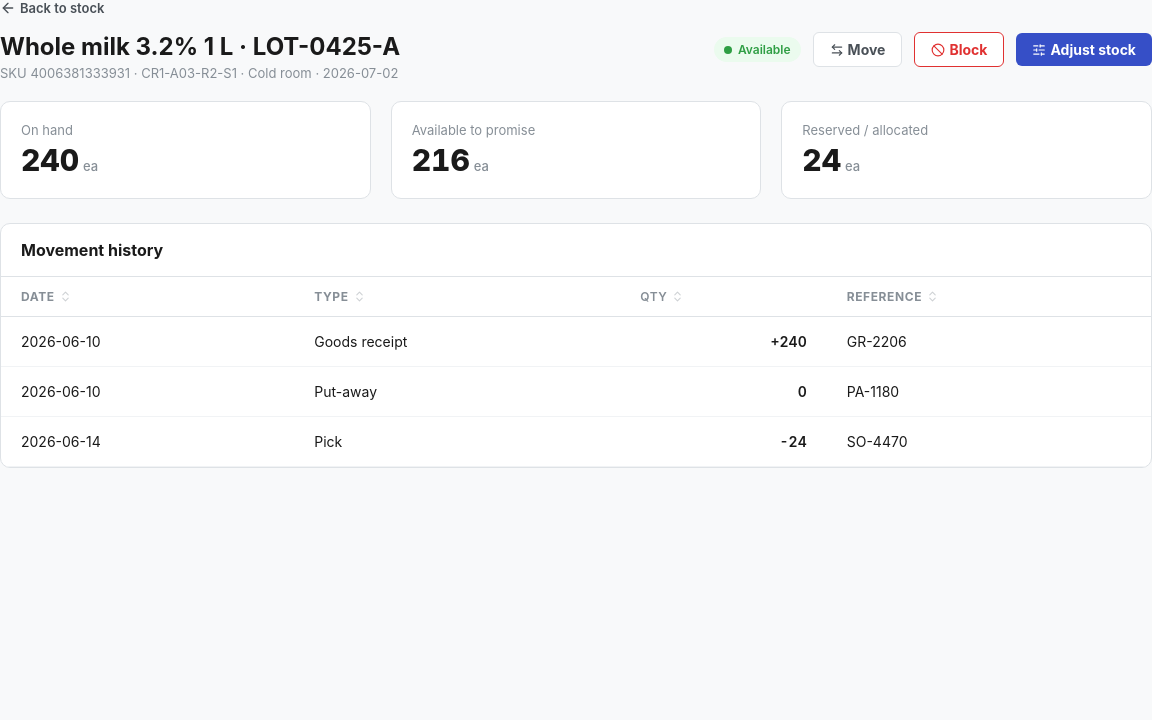
Test: StockItemScreen › refuses a move to an incompatible room (environment invariant)
The width and height of the screenshot is (1152, 720).
Expected: the heading "Whole milk 3.2% 1 L · LOT-0425-A" is shown, [0,32,400,61]
Step 1. Click the button "Move" → (858, 50), box [813,32,902,67]
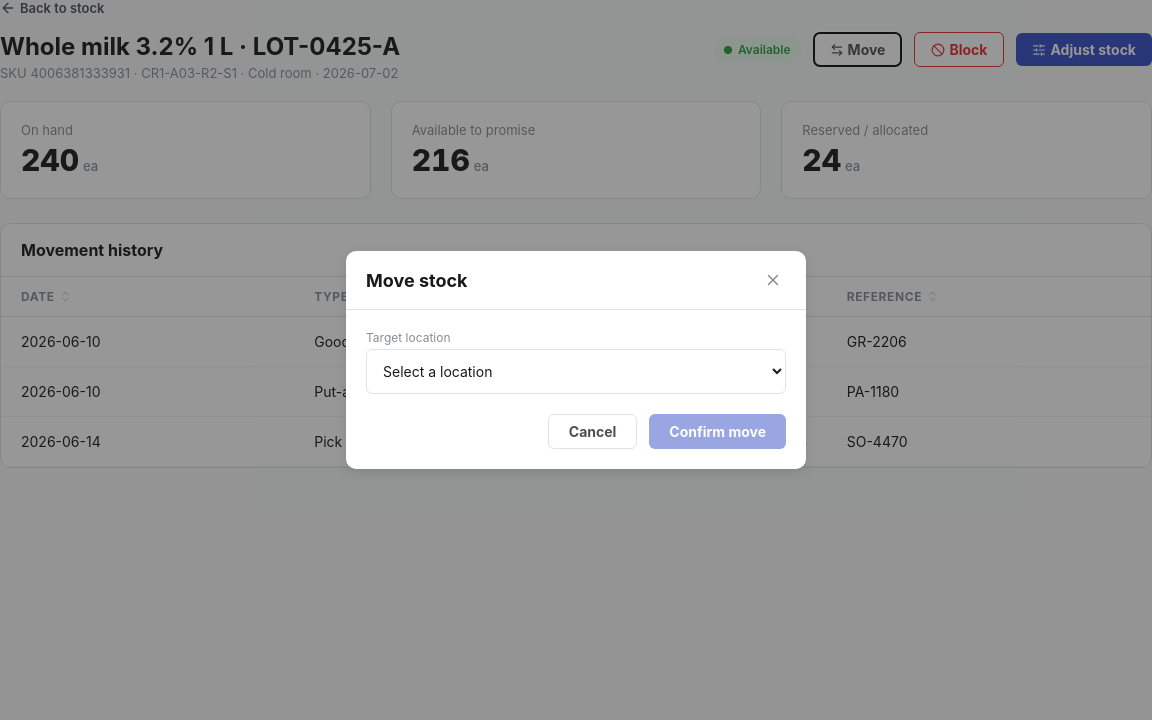
Now the button "Confirm move" is disabled, box [649,414,786,449]
// A standard (ambient) location → incompatible with a cold item.
Step 2. Select "A2-A07-R3-S2 · Standard hall A" in the dropdown labelled "Target location" → (576, 372), box [366,349,786,394]
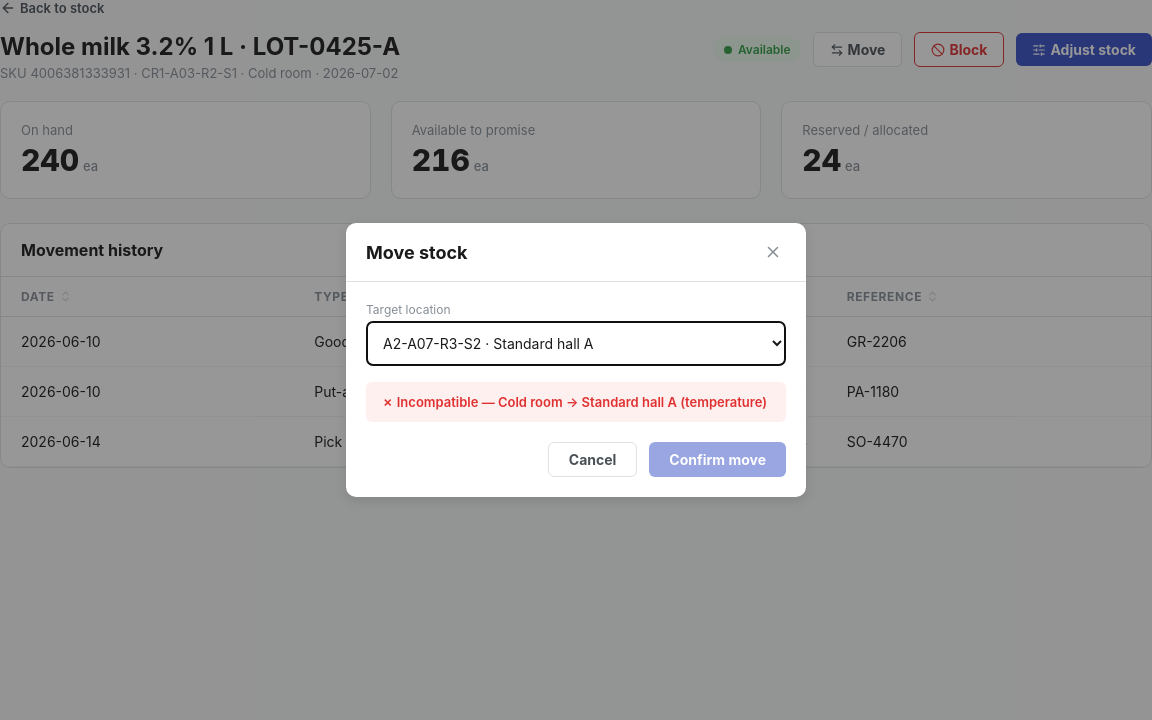
Now the button "Confirm move" is disabled, box [649,442,786,477]
Now the text "✗ Incompatible — Cold room → Standard hall A (temperature)" is shown, box [366,382,786,422]
// A cold-room location → compatible.
Step 3. Select "CR1-A01-R1-S4 · Cold room 1" in the dropdown labelled "Target location" → (576, 344), box [366,321,786,366]
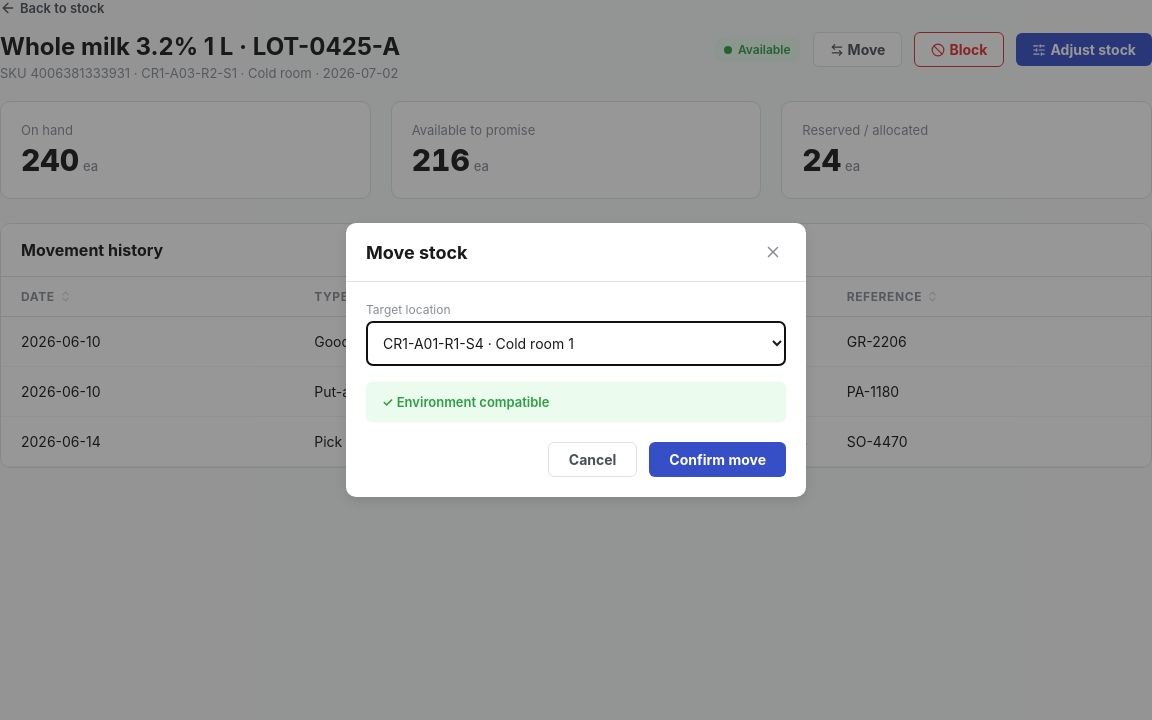
Now the button "Confirm move" is enabled, box [649,442,786,477]
